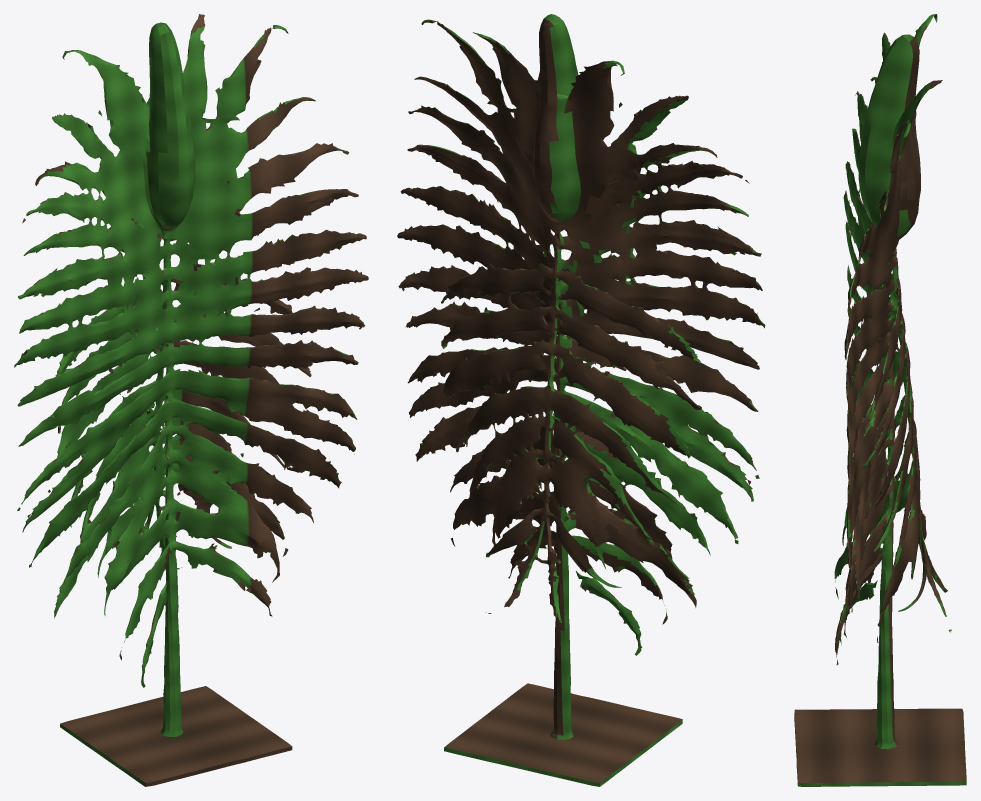
File: veg_ground_ostrich_01.obj
The picture shows the model from 3 angles, left to right: view 1: azimuth 30°, elevation 25°; view 2: azimuth 150°, elevation 25°; view 3: azimuth 270°, elevation 25°; orthographic projection. The views are drawn at different scales.
Parts seen in each view (by area): view 1: veg_ground_ostrich_01; view 2: veg_ground_ostrich_01; view 3: veg_ground_ostrich_01.
Part boxes in pixels (left/top/right/bottom): veg_ground_ostrich_01: left=14, top=14, right=368, bottom=786; veg_ground_ostrich_01: left=397, top=14, right=765, bottom=786; veg_ground_ostrich_01: left=794, top=14, right=966, bottom=786.
Bounding box in the file's own units: 3.36 × 6.39 × 1.4.
1 material, 1 textured.
